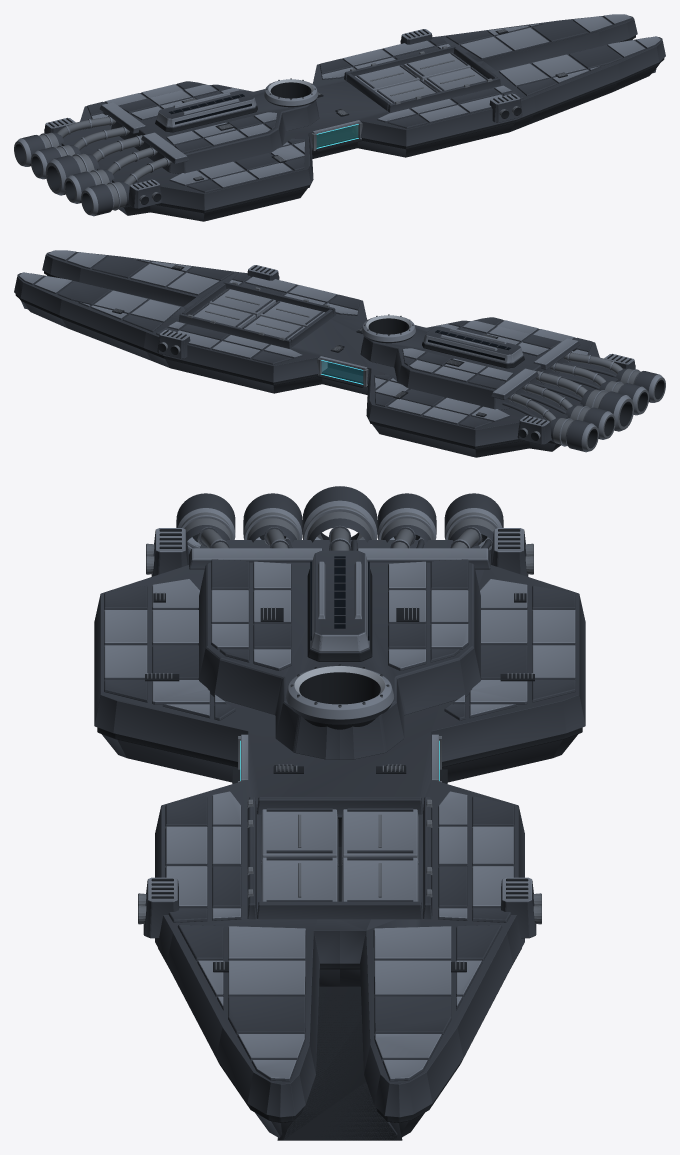
Rendered from drone_carrier.glb.
The picture shows the model from 3 angles, top to bottom: view 1: azimuth 30°, elevation 25°; view 2: azimuth 150°, elevation 25°; view 3: azimuth 270°, elevation 25°; orthographic projection. The views are drawn at different scales.
Visible parts, largest first — view 1: 01_hull_upper_shell, 04_aft_superstructure, 03_hull_ventral_armor, armor_prong_port, armor_prong_starboard, armor_aft_starboard, cargo_hatch_outer_frame, armor_forward_starboard, armor_superstructure_True, bridge_armored_housing, 02_hull_recessed_side_band, armor_forward_port (+26 smaller); view 2: 01_hull_upper_shell, 04_aft_superstructure, 03_hull_ventral_armor, armor_prong_starboard, armor_prong_port, armor_aft_port, cargo_hatch_outer_frame, armor_forward_port, armor_superstructure_False, bridge_armored_housing, 02_hull_recessed_side_band, armor_forward_starboard (+26 smaller); view 3: 01_hull_upper_shell, 04_aft_superstructure, 03_hull_ventral_armor, armor_prong_port, armor_prong_starboard, armor_aft_port, armor_aft_starboard, armor_forward_port, armor_forward_starboard, armor_superstructure_False, armor_superstructure_True, cargo_hatch_outer_frame (+20 smaller).
Part boxes in pixels (box(x1,y1,x2,y2)): 01_hull_upper_shell: box(61, 16, 665, 210); 04_aft_superstructure: box(111, 85, 319, 173); 03_hull_ventral_armor: box(119, 39, 659, 221); armor_prong_port: box(446, 14, 631, 59); armor_prong_starboard: box(499, 36, 661, 96); armor_aft_starboard: box(169, 138, 305, 192); cargo_hatch_outer_frame: box(344, 45, 500, 112); armor_forward_starboard: box(377, 85, 523, 128); armor_superstructure_True: box(166, 112, 277, 153); bridge_armored_housing: box(155, 90, 257, 132); 02_hull_recessed_side_band: box(123, 35, 664, 213); armor_forward_port: box(320, 36, 450, 79); 01_hull_upper_shell: box(14, 252, 618, 446); 04_aft_superstructure: box(360, 321, 568, 409); 03_hull_ventral_armor: box(20, 275, 560, 457); armor_prong_starboard: box(48, 250, 233, 295); armor_prong_port: box(18, 272, 180, 332); armor_aft_port: box(374, 374, 510, 428); cargo_hatch_outer_frame: box(179, 281, 335, 348); armor_forward_port: box(156, 321, 302, 364); armor_superstructure_False: box(402, 348, 513, 389); bridge_armored_housing: box(422, 326, 524, 368); 02_hull_recessed_side_band: box(15, 271, 556, 449); armor_forward_starboard: box(229, 272, 359, 315); 01_hull_upper_shell: box(94, 540, 585, 1117); 04_aft_superstructure: box(198, 562, 481, 759); 03_hull_ventral_armor: box(102, 734, 577, 1140); armor_prong_port: box(373, 924, 502, 1081); armor_prong_starboard: box(177, 924, 306, 1081); armor_aft_port: box(444, 579, 575, 720); armor_aft_starboard: box(104, 579, 235, 720); armor_forward_port: box(438, 791, 514, 922); armor_forward_starboard: box(165, 791, 241, 922); armor_superstructure_False: box(388, 559, 468, 670); armor_superstructure_True: box(211, 559, 291, 670); cargo_hatch_outer_frame: box(247, 797, 432, 919).
Bounding box in the file's own units: 1727 × 179 × 616.
